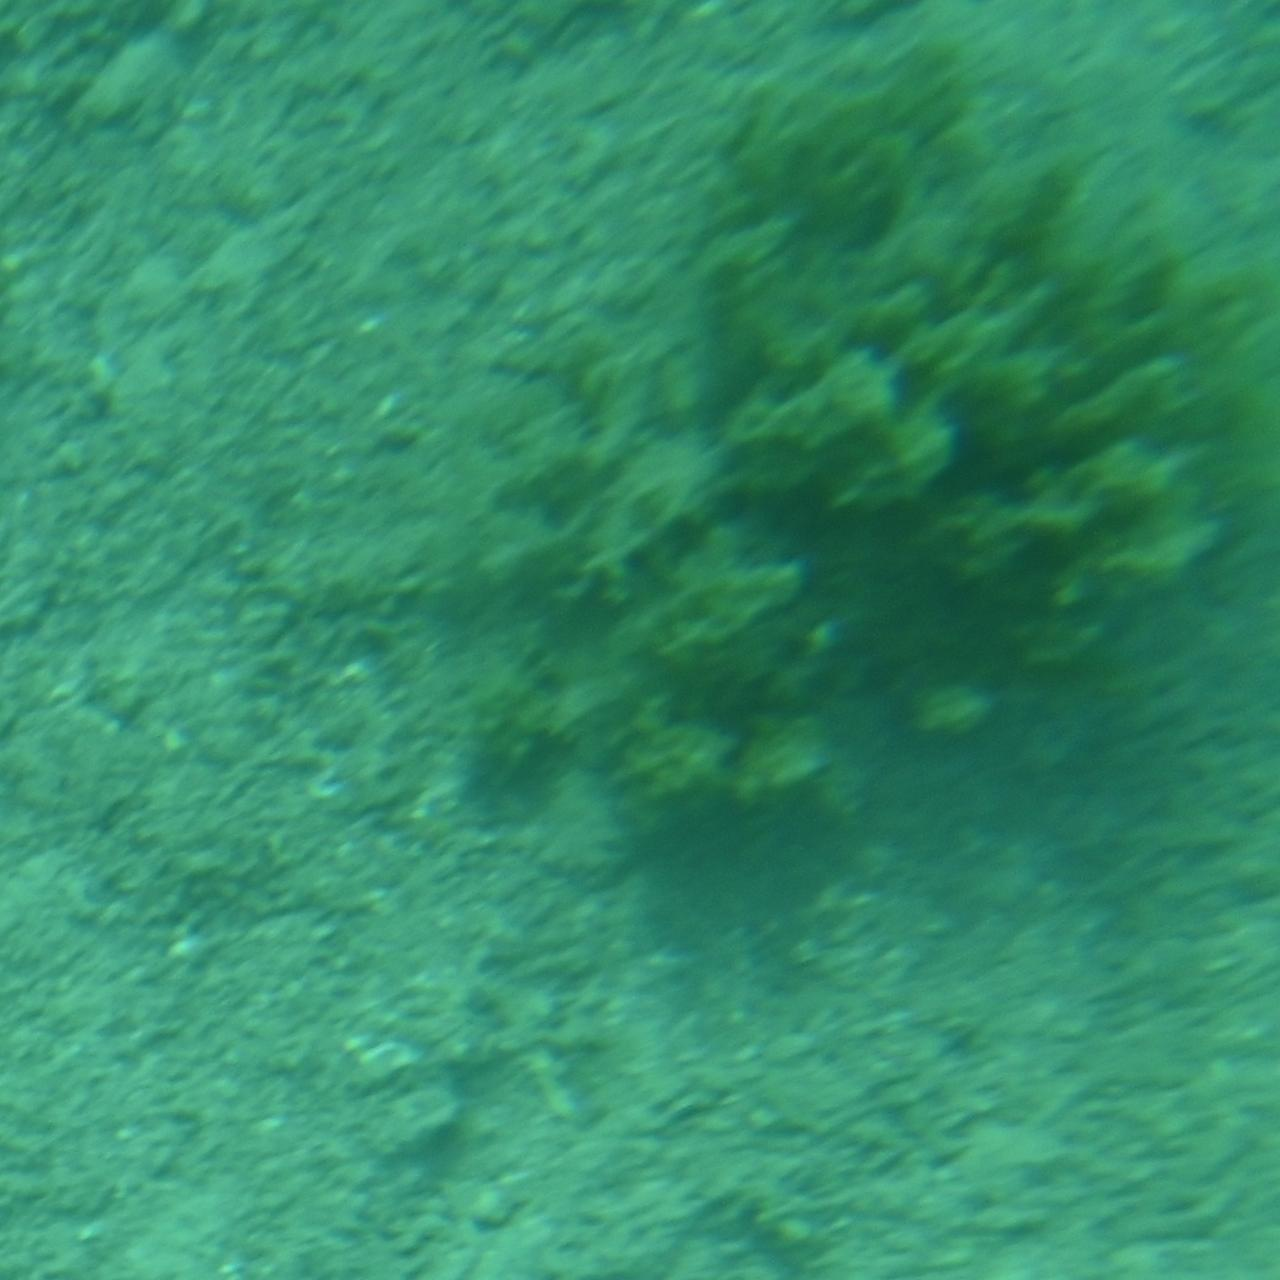Phaeophyceae -cfr Cystoseira-: (449, 50, 1280, 836)
